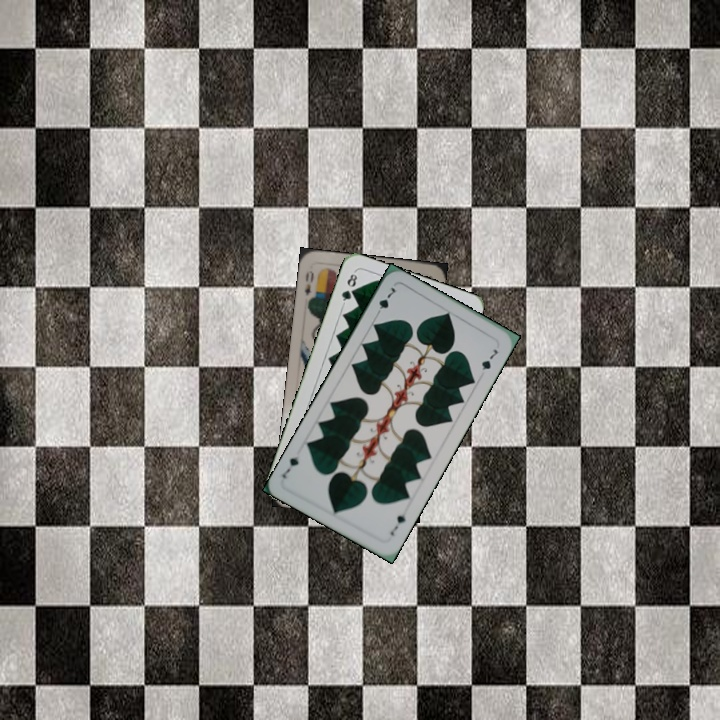EO: (301, 267, 319, 304)
G7: (371, 283, 398, 319), (386, 510, 408, 538)
G8: (337, 268, 360, 307)
